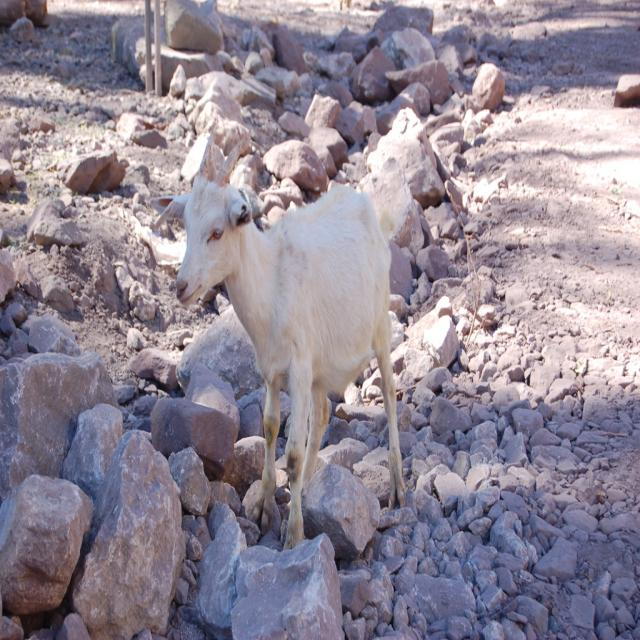Goat: (149, 130, 406, 550)
